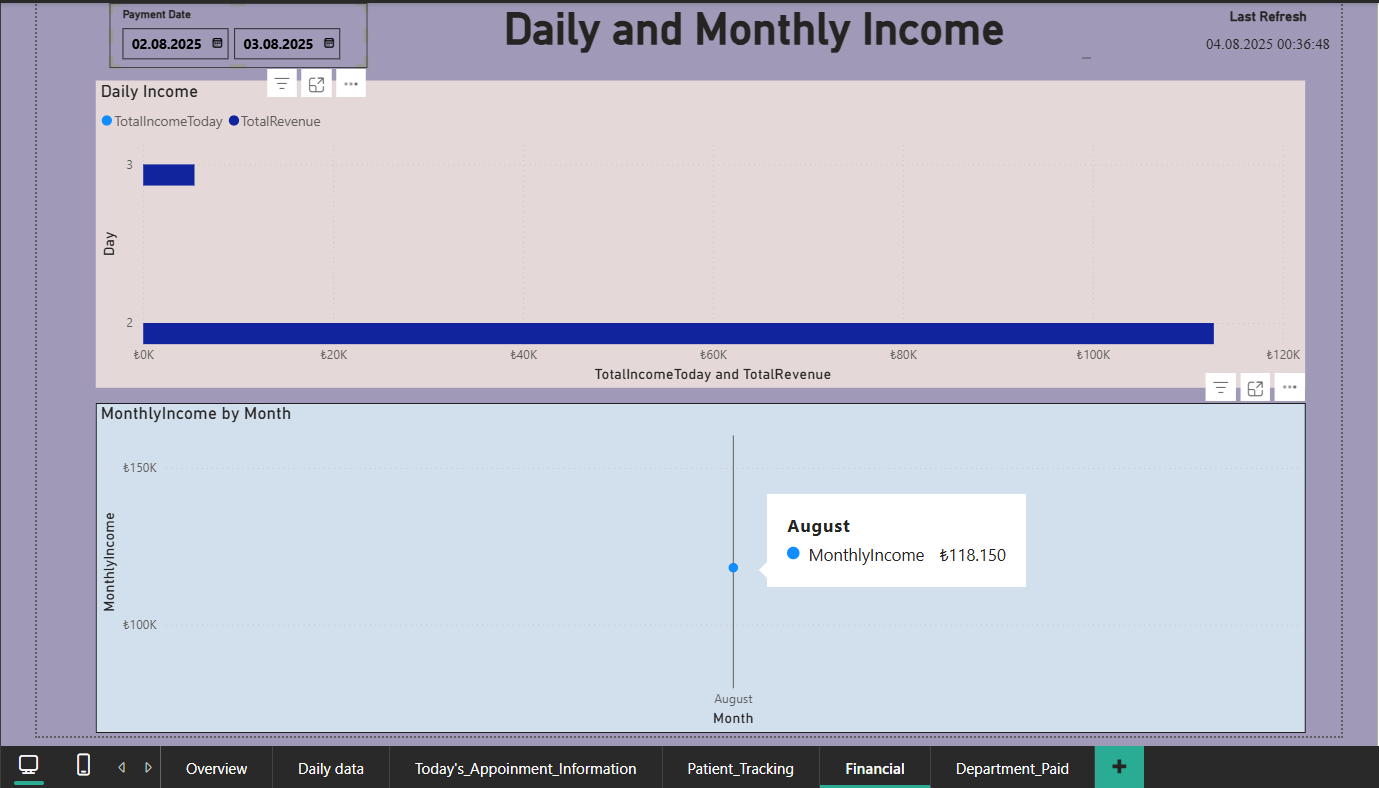

What the dashboard file says about the page in this screenshot:
{"tool":"powerbi","page":{"name":"Financial","canvas":[1280,720],"ordinal":4},"visuals":[{"type":"clusteredBarChart","title":"Daily Income","fields":{"Y":["Invoices.TotalIncomeToday","Invoices.TotalRevenue"],"Category":["Invoices.Payment_Date.Variation.Date Hierarchy.Day"]},"box":[57.8,76.6,1187.3,301.5],"z":0},{"type":"lineChart","fields":{"Category":["Invoices.Payment_Date.Variation.Date Hierarchy.Month"],"Y":["Invoices.MonthlyIncome"]},"box":[57.8,393.2,1187.3,322.9],"z":1000},{"type":"textbox","title":"Daily and Monthly Income","box":[369.4,0,669.7,59.1],"z":2000},{"type":"slicer","fields":{"Values":["Invoices.Payment_Date"]},"box":[71.6,0,252.5,64.1],"z":3000},{"type":"card","title":"Last Refresh","fields":{"Values":["AppointmentSchedule.LastRefresh"]},"box":[1137.4,6.1,142.3,57.7],"z":4000}]}

Visuals, with their boxes on the page's 1280x720 design canvas (x1, y1, x2, y2). These are canvas units, not pixel positions in the 1379x788 screenshot, which may show the page scaled, cropped or inside an application window:
"Daily Income" clusteredBarChart: left=58, top=77, right=1245, bottom=378
lineChart - Invoices.Payment_Date.Variation.Date Hierarchy.Month x Invoices.MonthlyIncome: left=58, top=393, right=1245, bottom=716
"Daily and Monthly Income" textbox: left=369, top=0, right=1039, bottom=59
slicer - Invoices.Payment_Date: left=72, top=0, right=324, bottom=64
"Last Refresh" card: left=1137, top=6, right=1280, bottom=64
